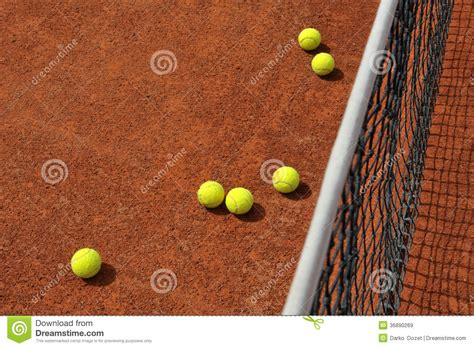tennis_ball: (70, 247, 102, 279), (197, 180, 224, 208), (225, 187, 253, 214), (272, 166, 299, 194), (311, 52, 334, 76), (297, 27, 321, 49)
